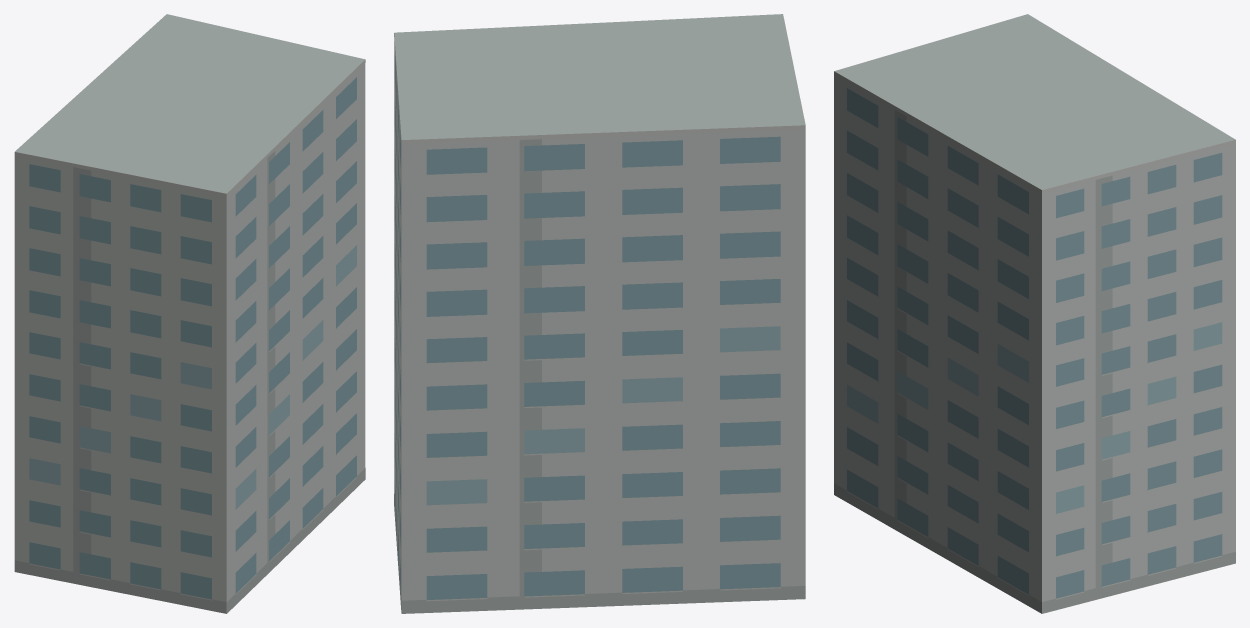
Rendered from survey-upis-32968884.glb.
3 renders of one model, left to right at view 1: azimuth 30°, elevation 25°; view 2: azimuth 150°, elevation 25°; view 3: azimuth 270°, elevation 25°, orthographic. The views are drawn at different scales.
Parts seen in each view (by area): view 1: survey-upis-32968884.tmp; view 2: survey-upis-32968884.tmp; view 3: survey-upis-32968884.tmp.
Boxes of the visible parts, x1,y1,x2,y2 form: survey-upis-32968884.tmp: [14, 14, 365, 613]; survey-upis-32968884.tmp: [394, 14, 805, 613]; survey-upis-32968884.tmp: [834, 14, 1235, 613].
Bounding box in the file's own units: 24.93 × 27.95 × 24.03.
